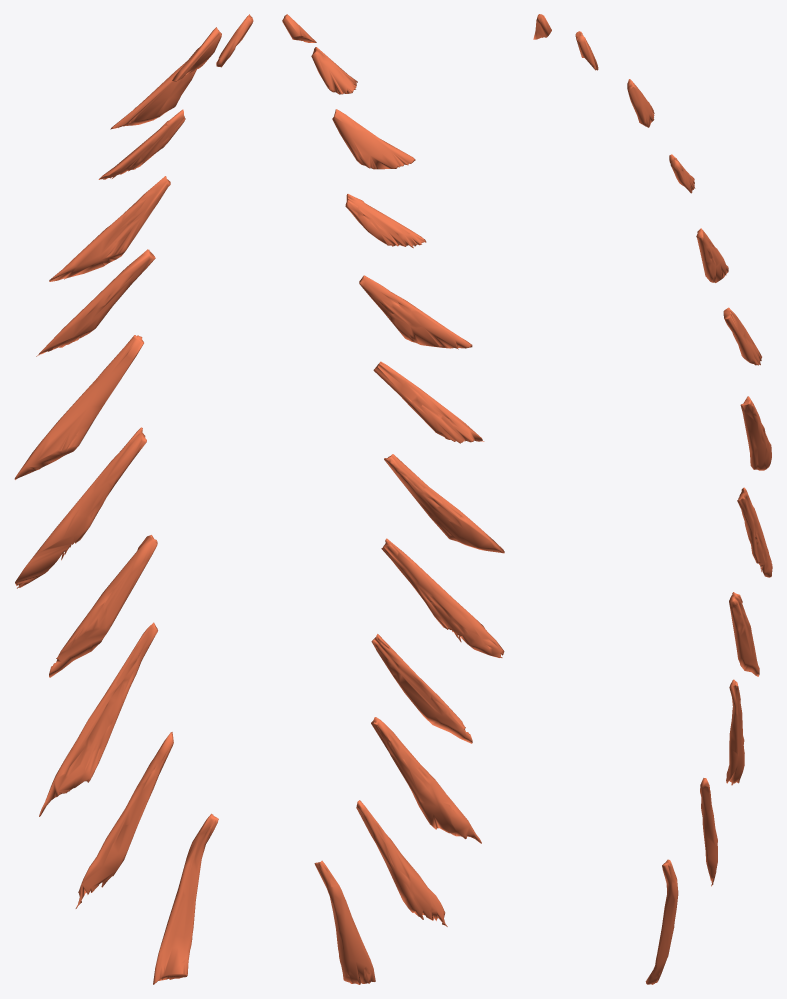
Rendered from Levatores_breves_costarum.r_Generated_Mesh_From_X3D.386.glb.
The picture shows the model from 3 angles, left to right: view 1: azimuth 30°, elevation 25°; view 2: azimuth 210°, elevation 25°; view 3: azimuth 270°, elevation 25°; orthographic projection. The views are drawn at different scales.
Visible parts, largest first — view 1: Levatores_breves_costarum.r_Generated_Mesh_From_X3D.386; view 2: Levatores_breves_costarum.r_Generated_Mesh_From_X3D.386; view 3: Levatores_breves_costarum.r_Generated_Mesh_From_X3D.386.
Part boxes in pixels (left/top/right/bottom): Levatores_breves_costarum.r_Generated_Mesh_From_X3D.386: left=14, top=14, right=253, bottom=984; Levatores_breves_costarum.r_Generated_Mesh_From_X3D.386: left=282, top=14, right=504, bottom=984; Levatores_breves_costarum.r_Generated_Mesh_From_X3D.386: left=533, top=14, right=772, bottom=984.
Bounding box in the file's own units: 0.0507 × 0.3234 × 0.0717.
